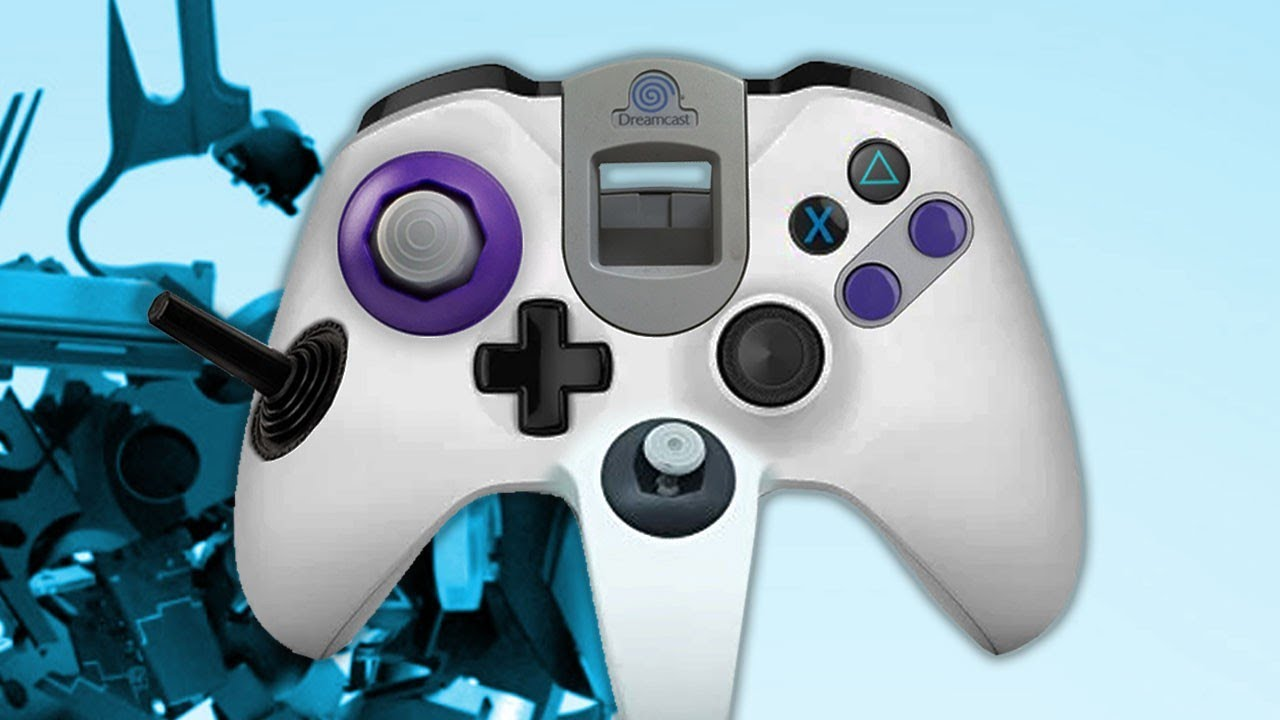controller: (145, 63, 1090, 720)
